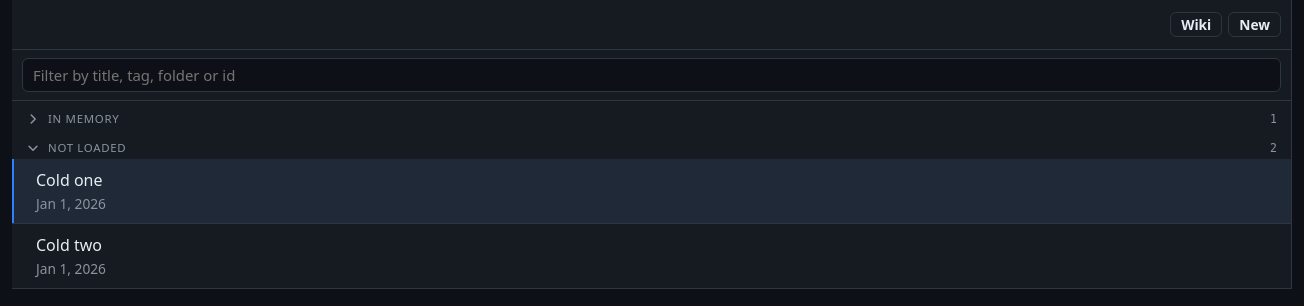
Scenario: folding a group › keeps showing the selected session even when its group is folded
Click the button "Not loaded 2".
click(87, 148)  # box 12,136 -> 1291,159
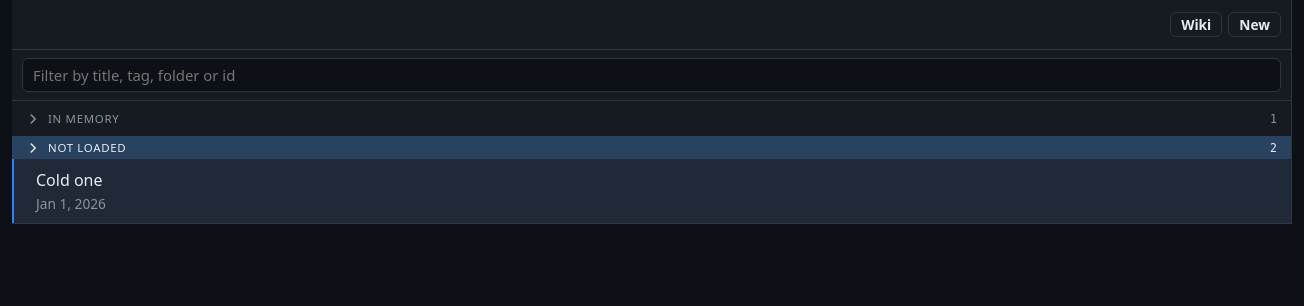
Expected: the text "Cold one" is shown, 36,169 -> 102,191
Expected: the button "Cold two" is gone
